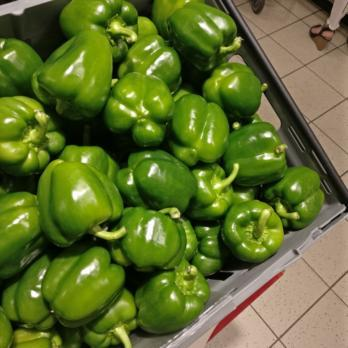Capsicum: (0, 38, 208, 312), (186, 62, 277, 262), (63, 0, 240, 80), (268, 159, 322, 228)
